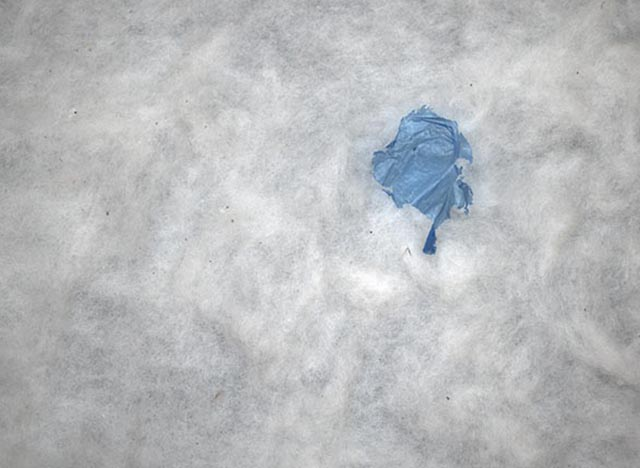plastic film: (369, 103, 474, 254)
